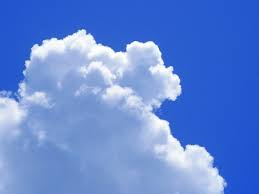sky: (1, 2, 255, 194)
